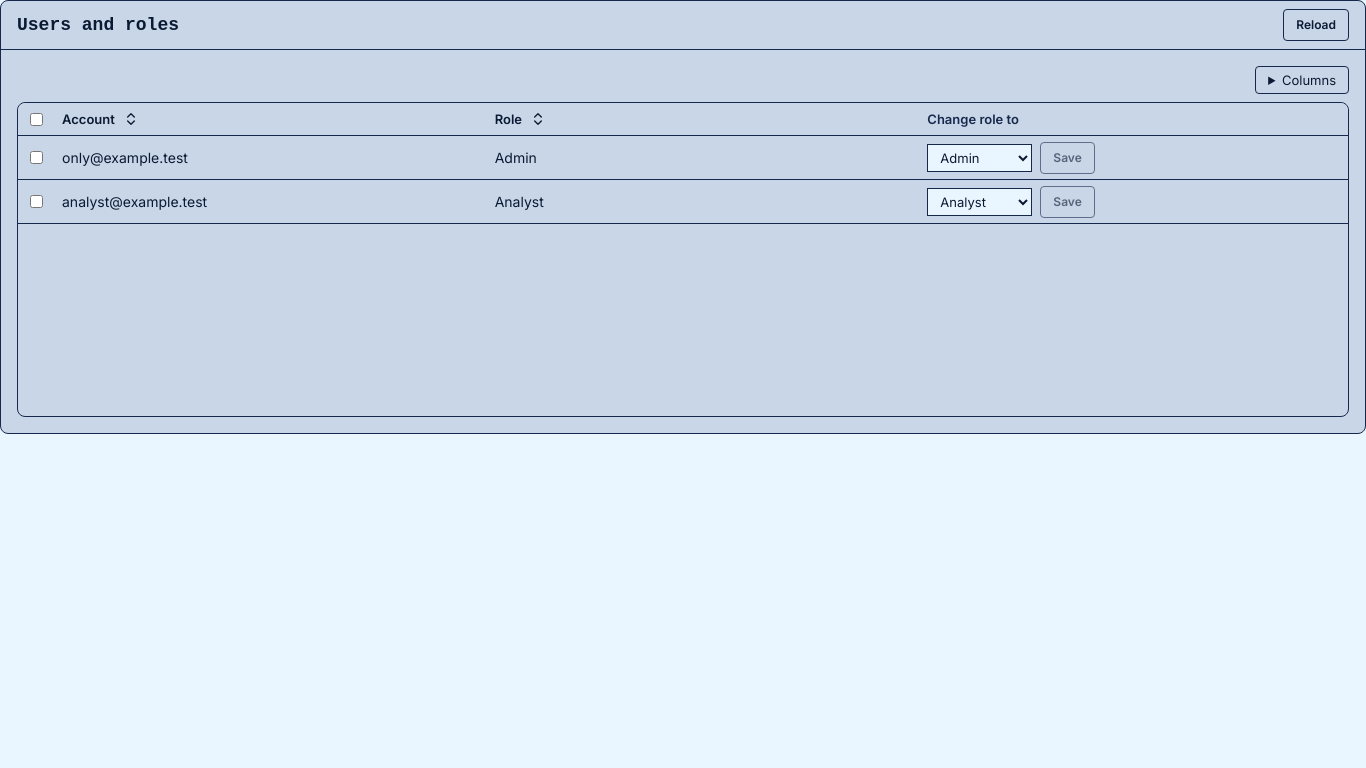
Test: UsersPanel › reports a change the server made, naming who and when
The width and height of the screenshot is (1366, 768).
Select "Viewer" in the dropdown named "New role for only@example.test" in the row of "only@example.test". click: (980, 158)
box: left=927, top=144, right=1032, bottom=172
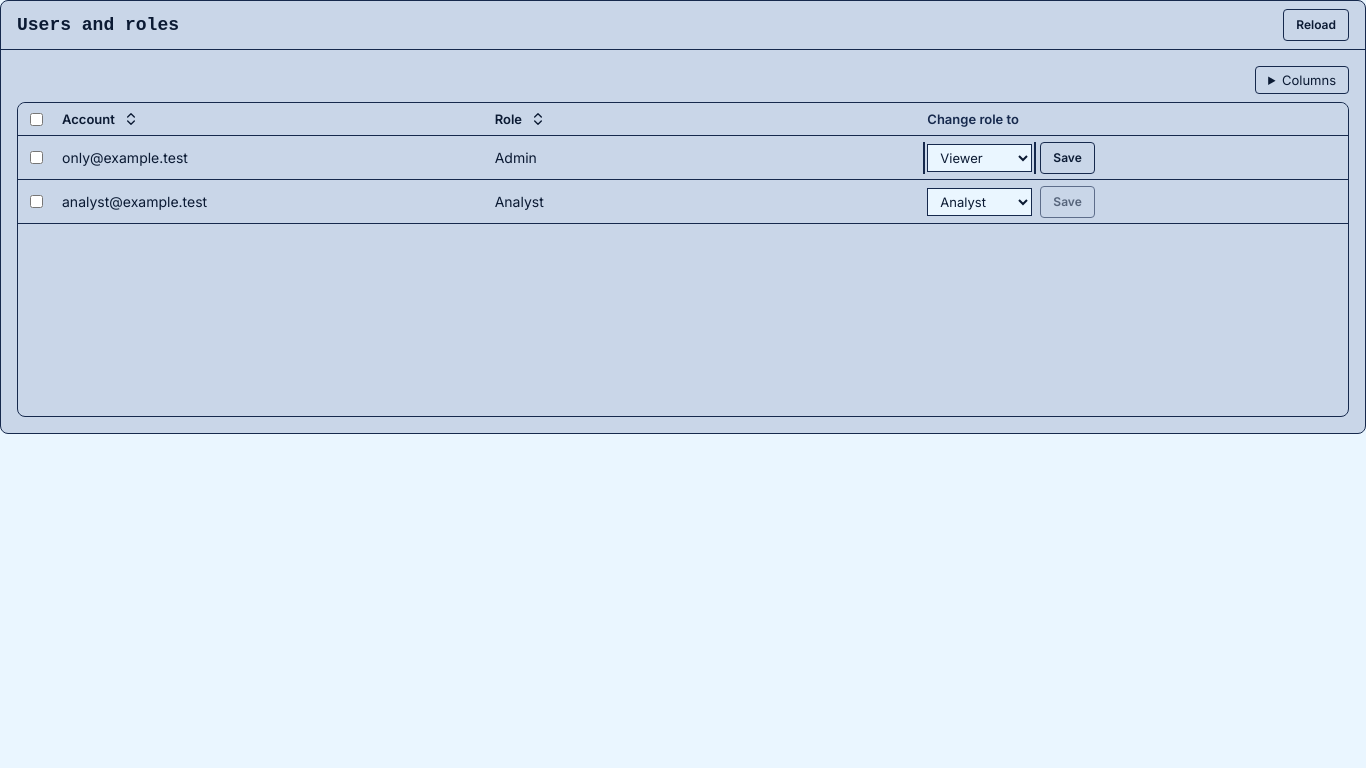
Click the button with aria-label "Save the new role for only@example.test". click: (1068, 158)
box: left=1040, top=142, right=1095, bottom=174
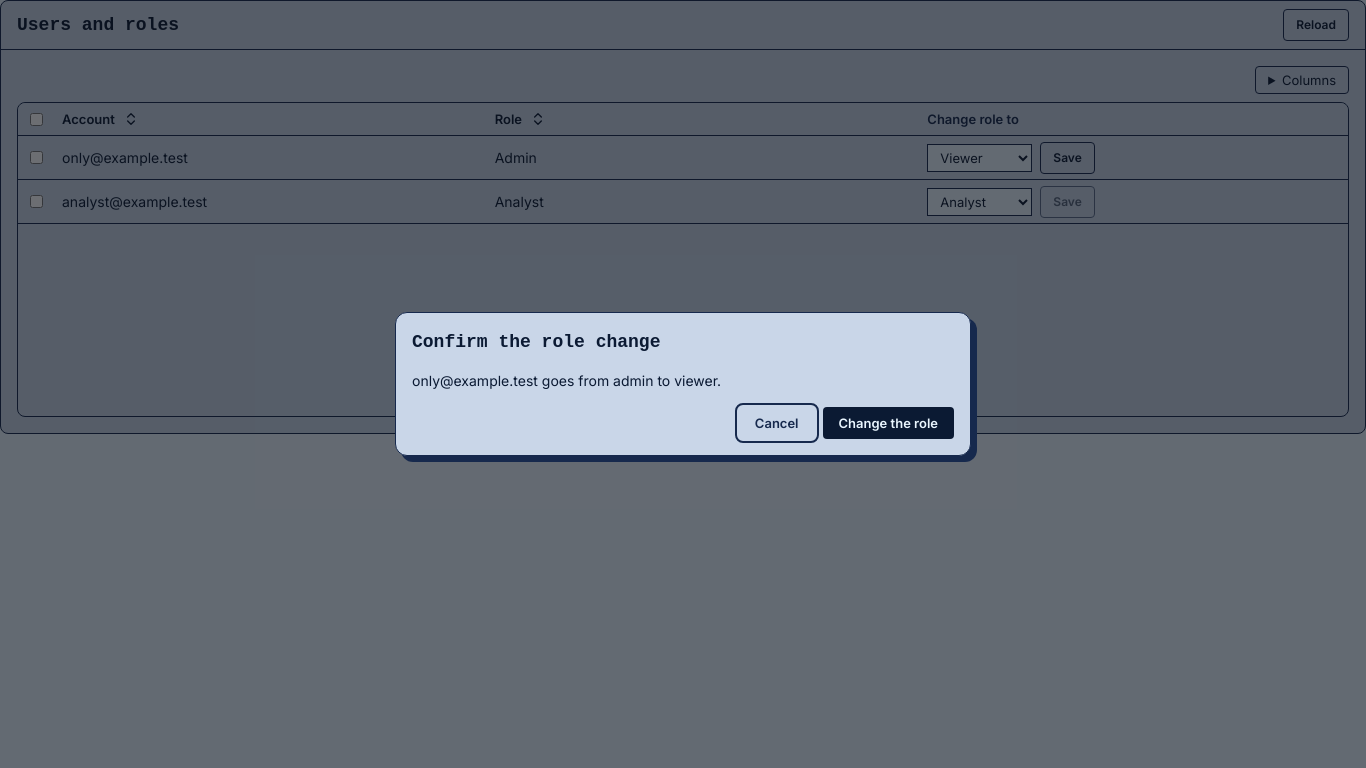
Click the button "Change the role". click: (888, 423)
box: left=822, top=407, right=954, bottom=439
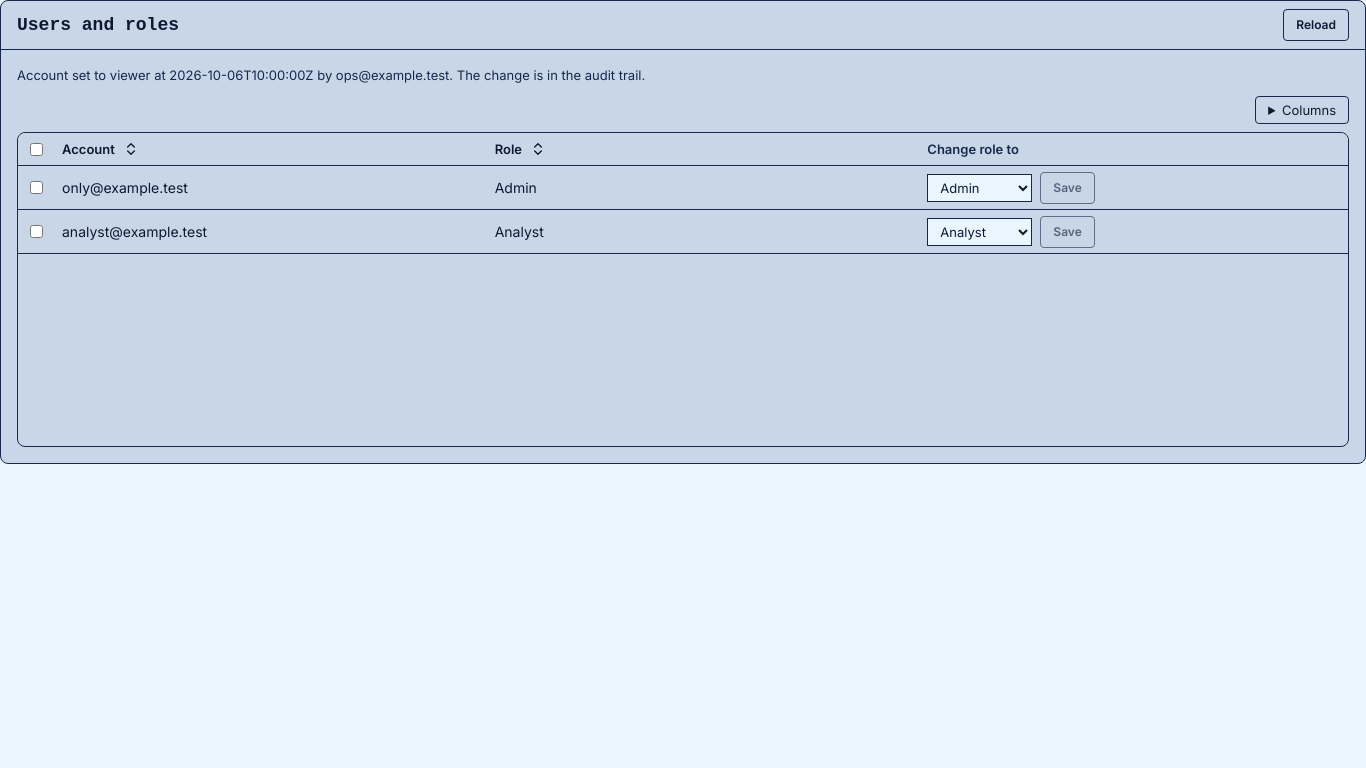
Expected: the text "Account set to viewer" is shown, left=17, top=67, right=645, bottom=83
